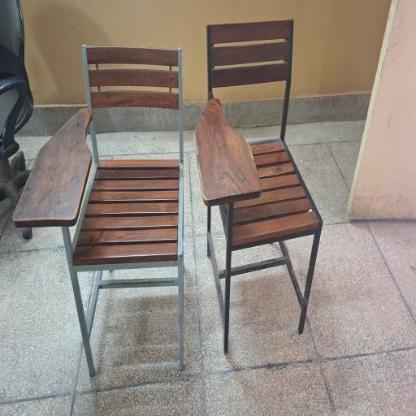chair: (16, 37, 192, 375), (185, 17, 326, 355)
